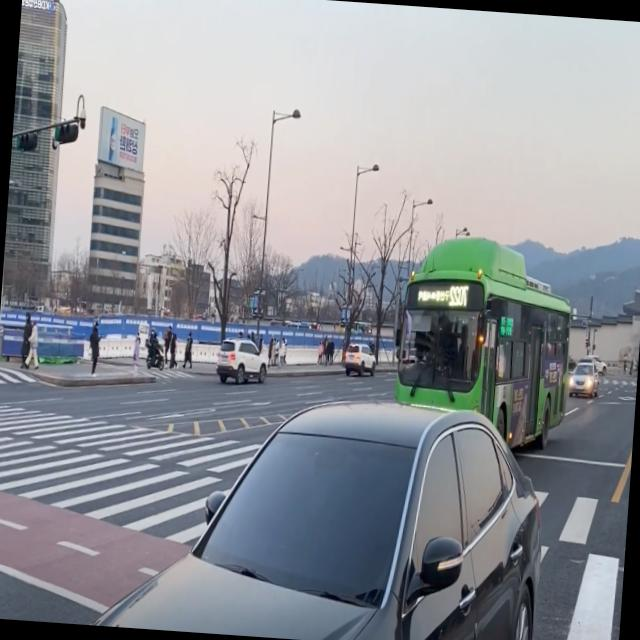bus-number: (448, 282, 469, 308)
